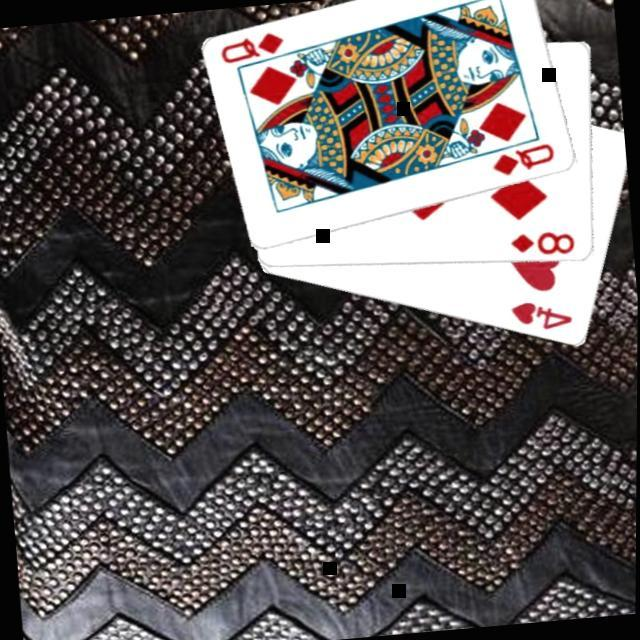4H: (506, 296, 574, 338)
8D: (505, 227, 577, 263)
QD: (214, 28, 286, 69), (487, 140, 558, 181)
